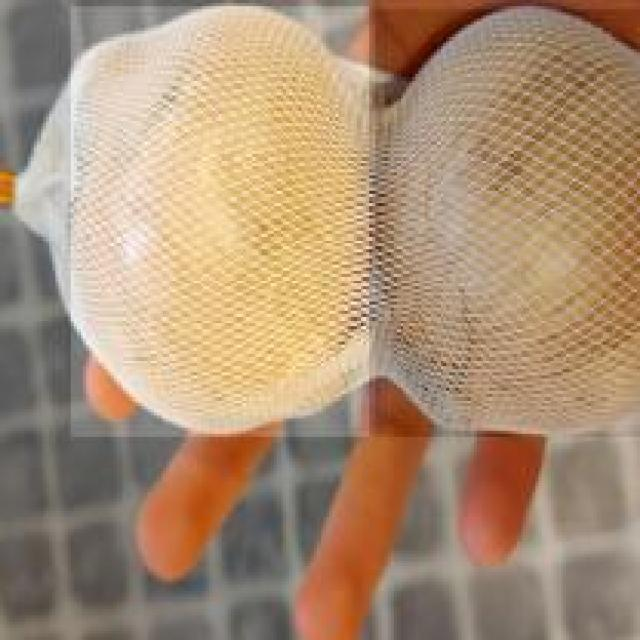onion: (71, 3, 372, 437), (375, 3, 640, 434)
